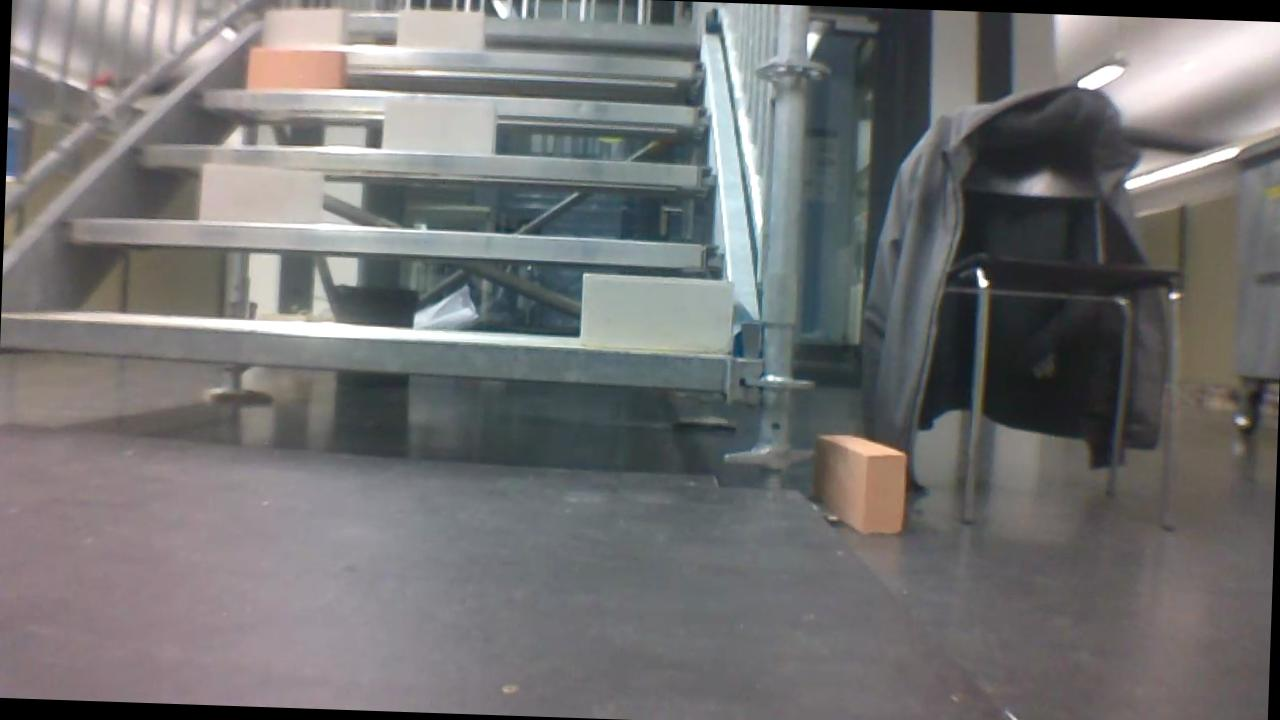brick: (580, 271, 733, 350), (201, 166, 323, 222), (383, 99, 495, 153), (247, 49, 342, 88), (399, 9, 485, 48), (264, 7, 346, 43)
edge: (0, 315, 724, 385), (67, 215, 721, 267), (131, 142, 714, 186), (191, 88, 712, 124), (244, 41, 704, 78), (263, 9, 704, 44)
